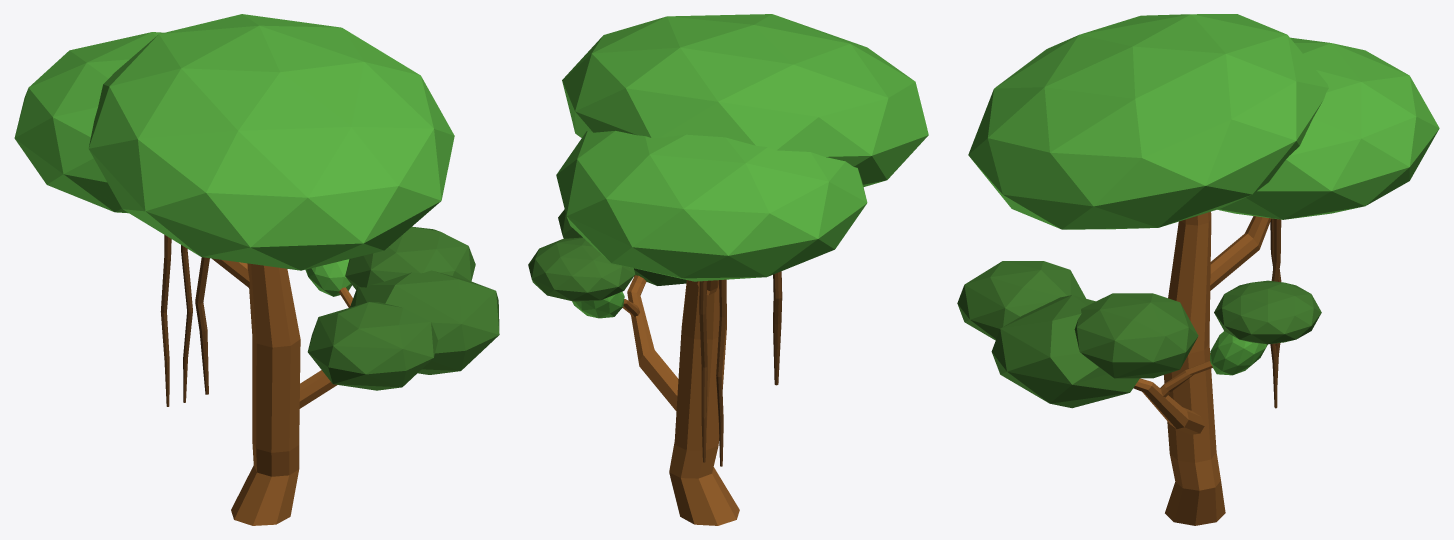
Rendered from ENVI_LV2-3_pohon_Tinggi_004.fbx.
3 views of the same model, side by side, from view 1: azimuth 30°, elevation 25°; view 2: azimuth 150°, elevation 25°; view 3: azimuth 270°, elevation 25° (orthographic).
Parts seen in each view (by area): view 1: pohon Tinggi.004; view 2: pohon Tinggi.004; view 3: pohon Tinggi.004.
Boxes of the visible parts, x1,y1,x2,y2 form: pohon Tinggi.004: [14, 14, 499, 525]; pohon Tinggi.004: [528, 14, 928, 525]; pohon Tinggi.004: [957, 14, 1439, 525].
Size of the model in its own units: 1356 by 1737 by 1629.
